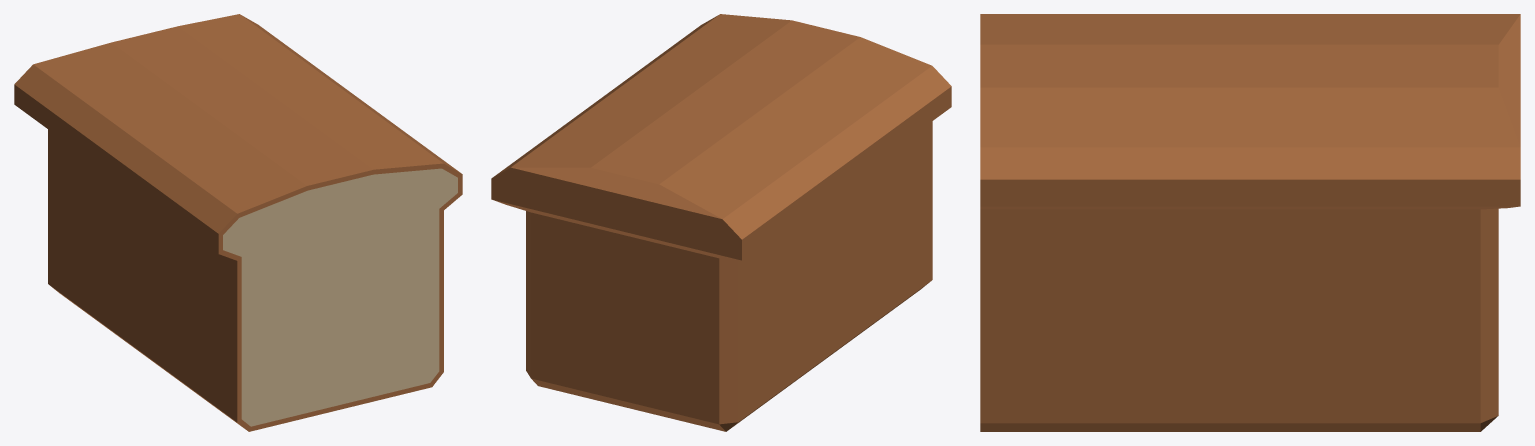
Rendered from BreadCut.fbx.
3 views of the same model, side by side, from view 1: azimuth 30°, elevation 25°; view 2: azimuth 150°, elevation 25°; view 3: azimuth 270°, elevation 25° (orthographic). The views are drawn at different scales.
Visible parts, largest first — view 1: Cube.003, Cube.006; view 2: Cube.003; view 3: Cube.003.
Boxes of the visible parts, <box> form: Cube.003: <box>14,14,462,431</box>; Cube.006: <box>223,168,457,426</box>; Cube.003: <box>491,14,951,431</box>; Cube.003: <box>980,14,1520,431</box>.
Bounding box in the file's own units: 35.81 × 32.5 × 51.89.
